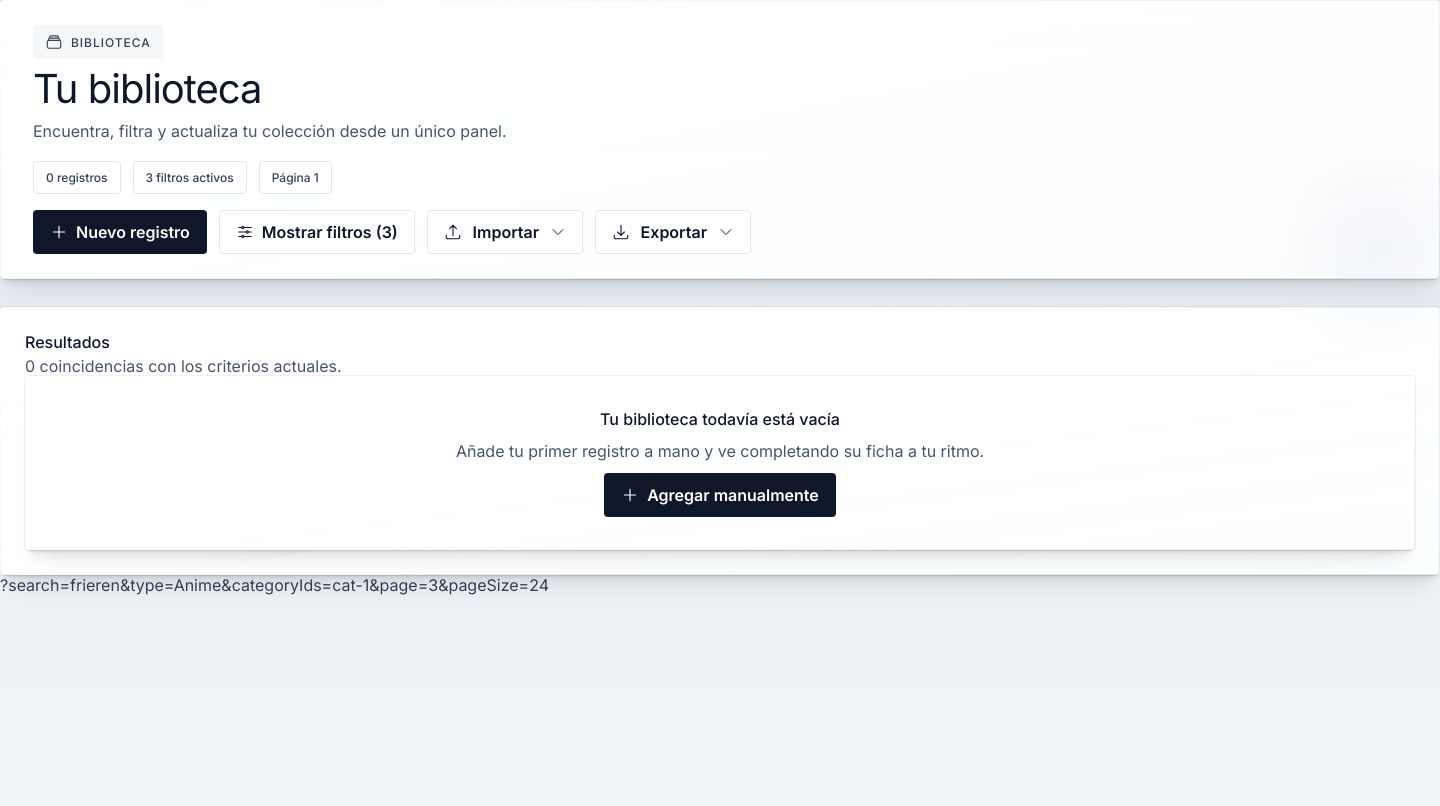
Test: LibraryView › clears filters, resets the search box and keeps the current page size
The width and height of the screenshot is (1440, 806).
Note: Los filtros están plegados por defecto: hay que desplegarlos primero.
Click the button "Mostrar filtros (3)": (317, 232) [219,210,415,254]
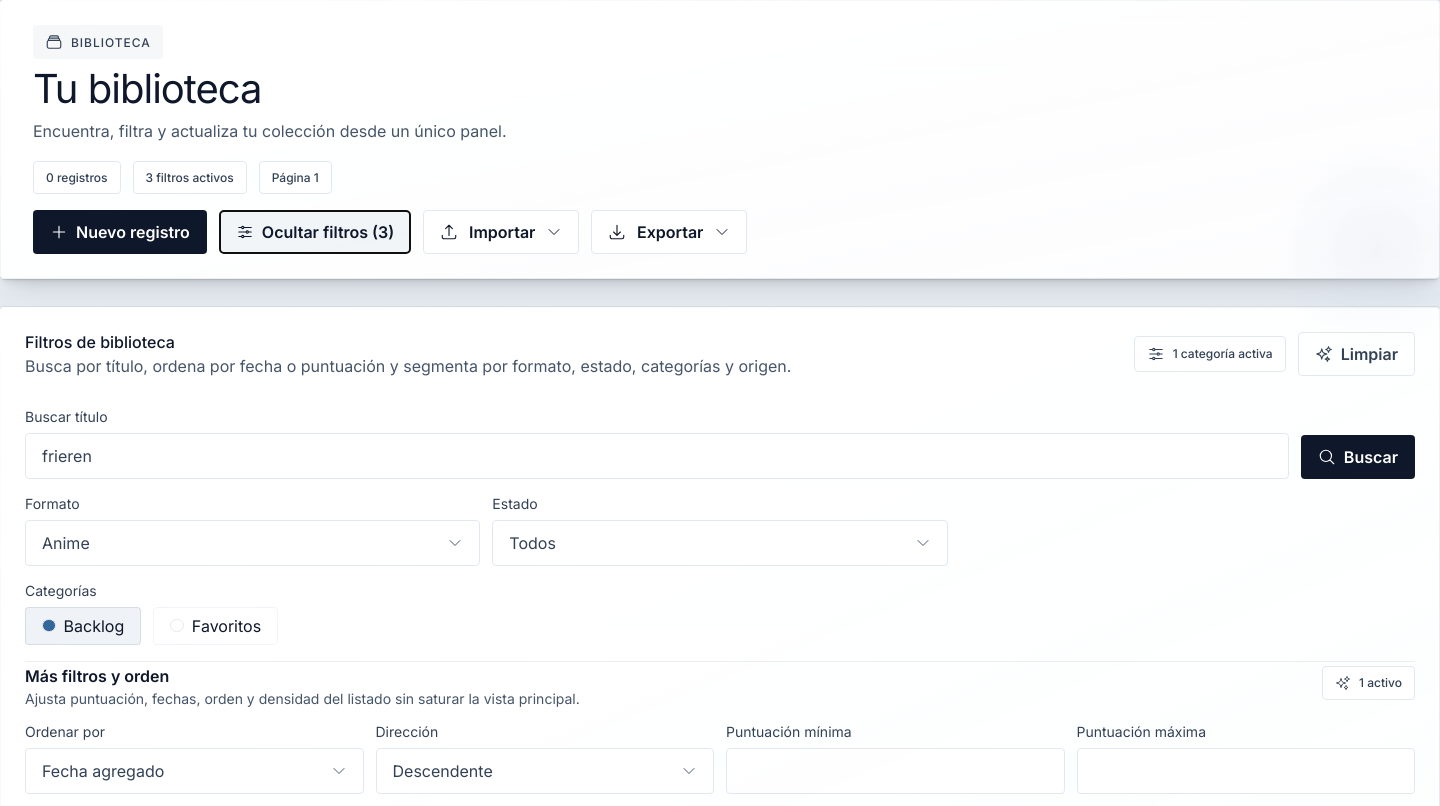
Click the button "Limpiar": (1356, 354) [1298,332,1415,376]
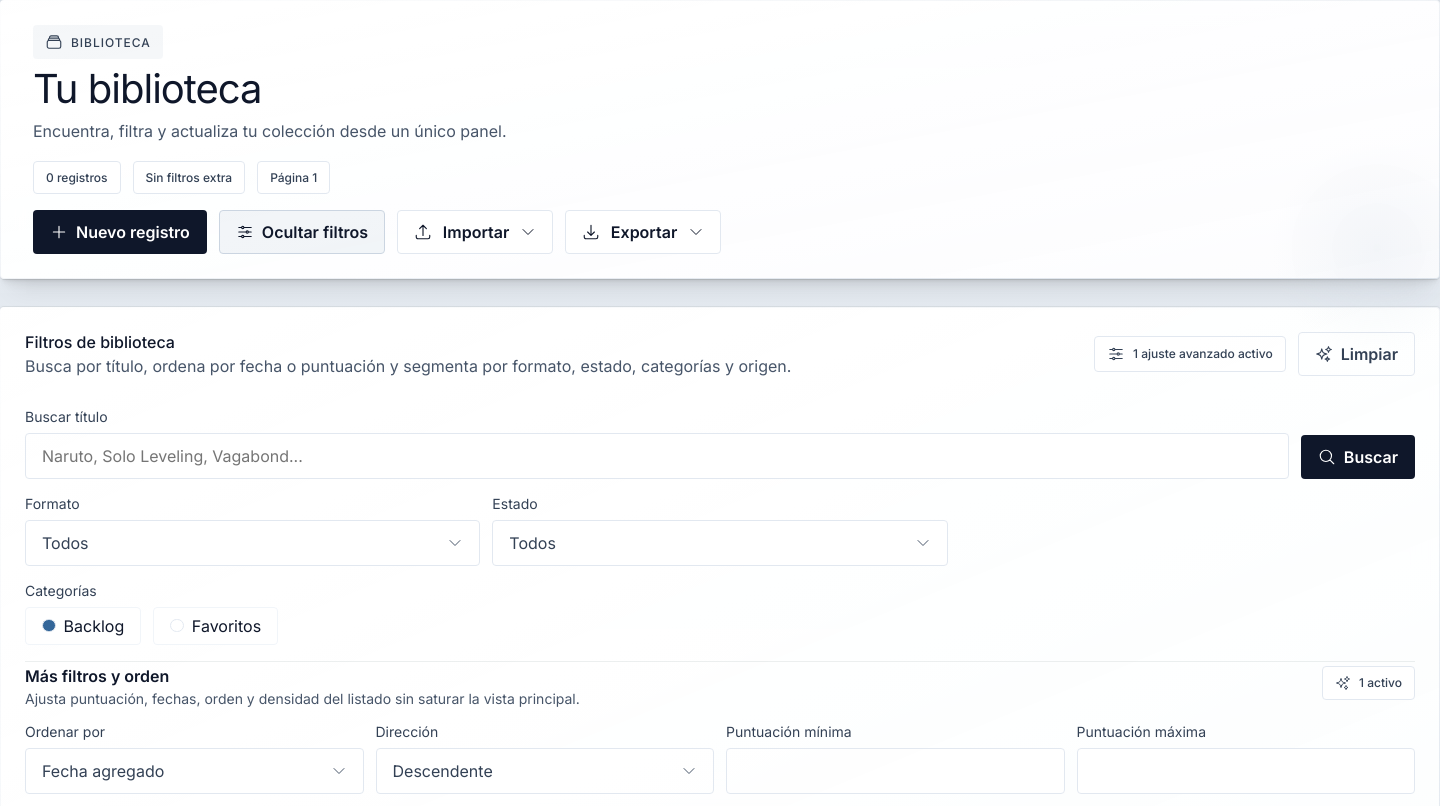
Check: the field labelled "Buscar título" is empty, box [25,433,1289,479]
